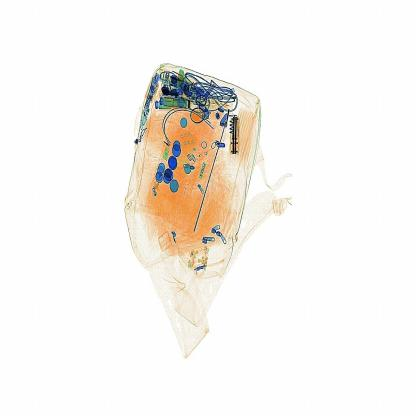scissors: (226, 112, 244, 162)
